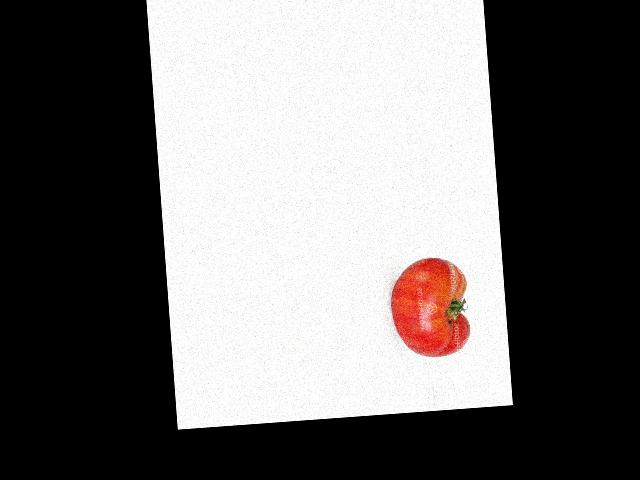tomato: (388, 255, 472, 359)
